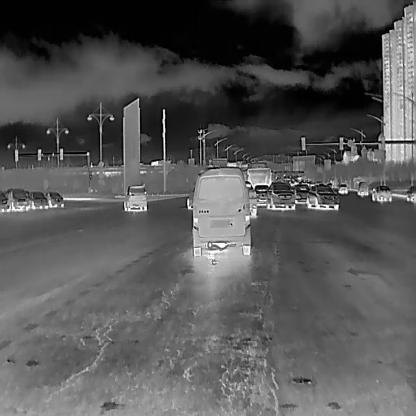car: (191, 167, 253, 257), (306, 185, 339, 209), (267, 182, 295, 207), (124, 184, 146, 211), (6, 188, 29, 211), (244, 179, 257, 217), (27, 190, 48, 207), (253, 184, 268, 205), (293, 185, 310, 203), (372, 186, 391, 202), (47, 190, 64, 207), (358, 180, 368, 196), (337, 183, 347, 194)
